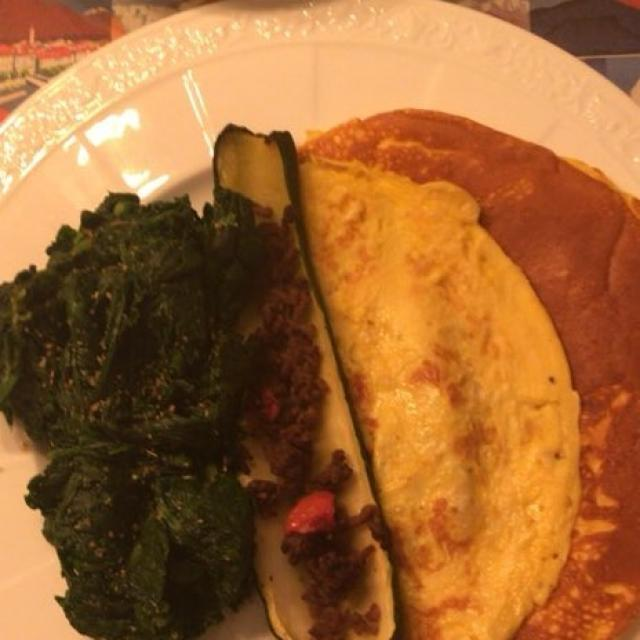beef: (225, 185, 378, 630)
crepe: (303, 119, 635, 632)
spinach: (24, 194, 251, 637)
zucchini: (200, 122, 405, 637)
